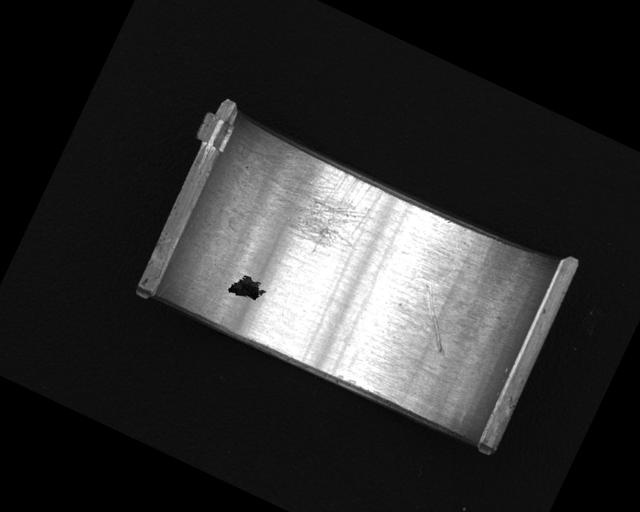blot: (225, 269, 270, 308)
nick: (404, 285, 468, 356)
scratch: (238, 135, 385, 269)
